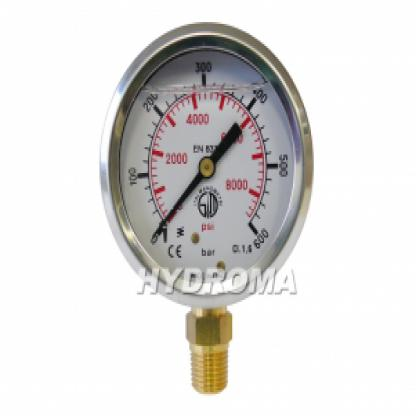needle: (149, 170, 205, 240)
